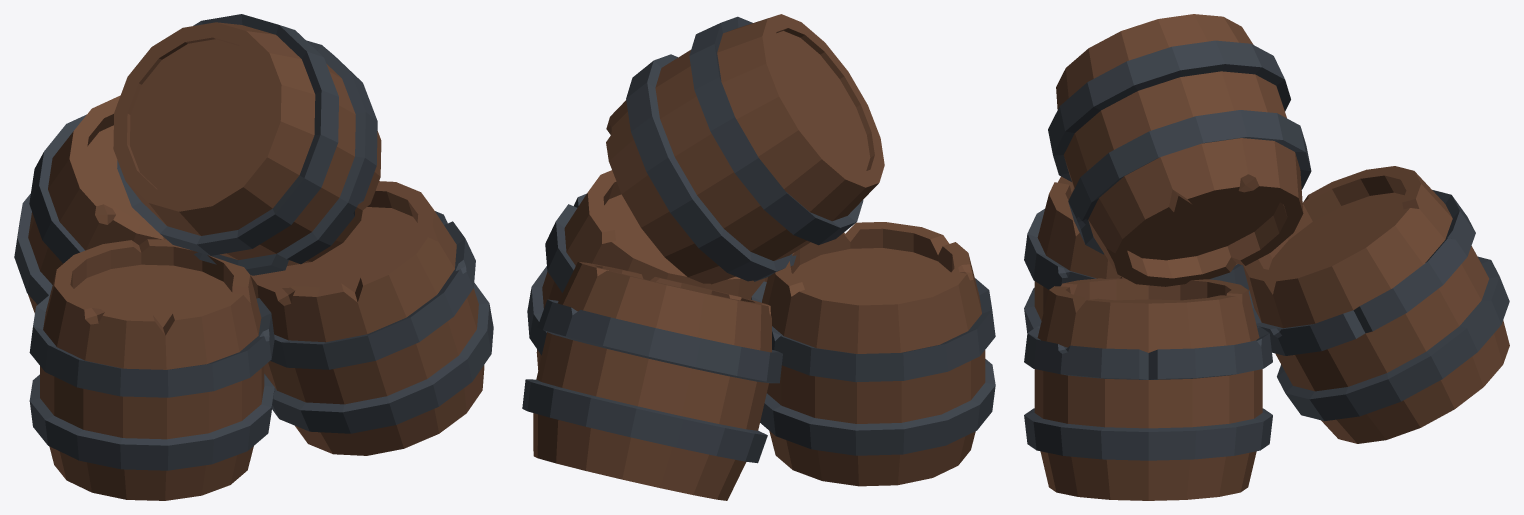
Rendered from fıçılar.fbx.
The picture shows the model from 3 angles, left to right: view 1: azimuth 30°, elevation 25°; view 2: azimuth 150°, elevation 25°; view 3: azimuth 270°, elevation 25°; orthographic projection.
Parts seen in each view (by area): view 1: Cylinder.002; view 2: Cylinder.002; view 3: Cylinder.002.
Boxes of the visible parts, x1,y1,x2,y2 form: Cylinder.002: [14, 14, 493, 500]; Cylinder.002: [522, 14, 995, 500]; Cylinder.002: [1024, 14, 1509, 500].
Size of the model in its own units: 10323 by 9642 by 9953.
